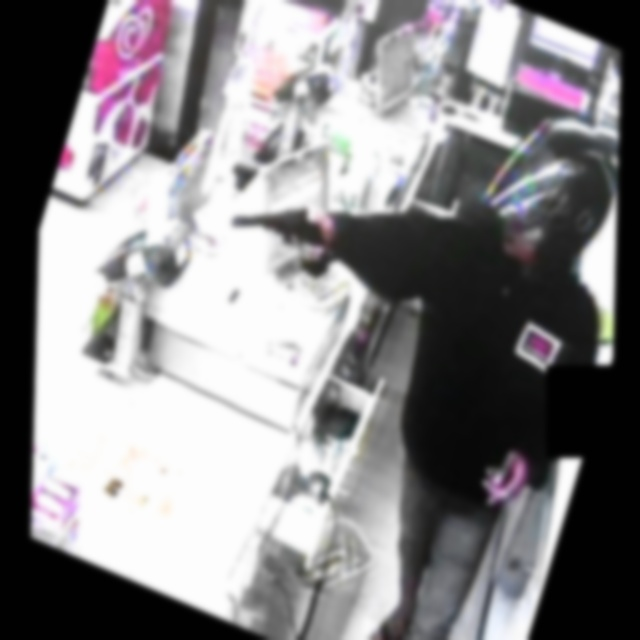gun: (214, 176, 347, 306)
